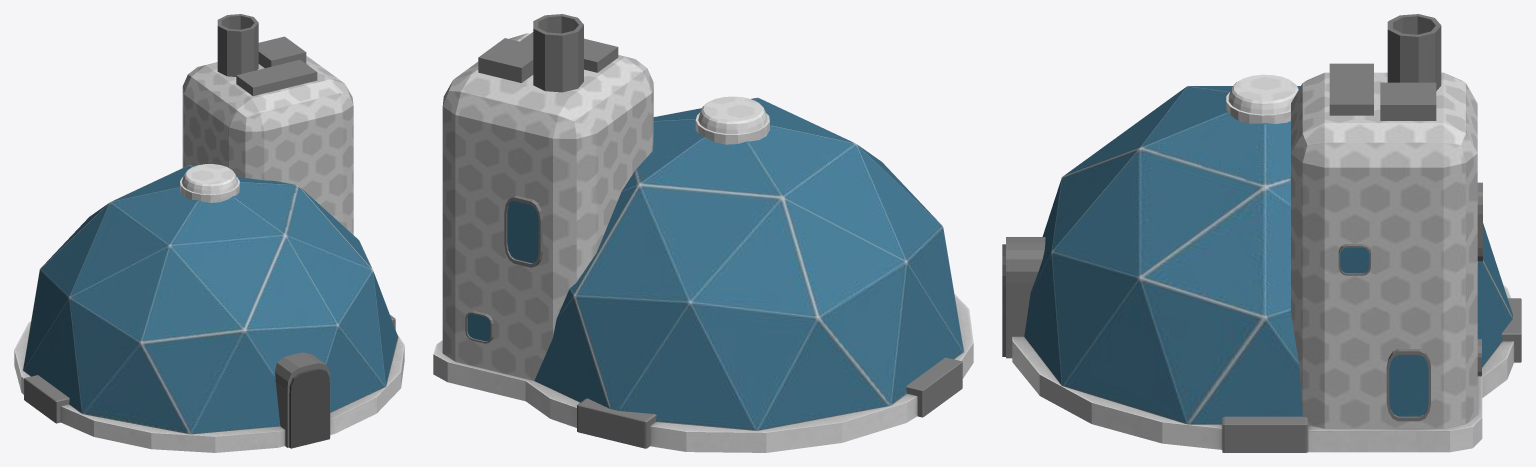
Rendered from habitat-domo.glb.
The picture shows the model from 3 angles, left to right: view 1: azimuth 30°, elevation 25°; view 2: azimuth 150°, elevation 25°; view 3: azimuth 270°, elevation 25°; orthographic projection. The views are drawn at different scales.
Visible parts, largest first — view 1: CCBY_habitat-domo; view 2: CCBY_habitat-domo; view 3: CCBY_habitat-domo.
Boxes of the visible parts, x1=… form: CCBY_habitat-domo: x1=14, y1=14, x2=404, y2=452; CCBY_habitat-domo: x1=433, y1=14, x2=973, y2=452; CCBY_habitat-domo: x1=1002, y1=14, x2=1521, y2=452.
Size of the model in its own units: 7.51 by 6.03 by 7.6.
1 material, 1 textured.
